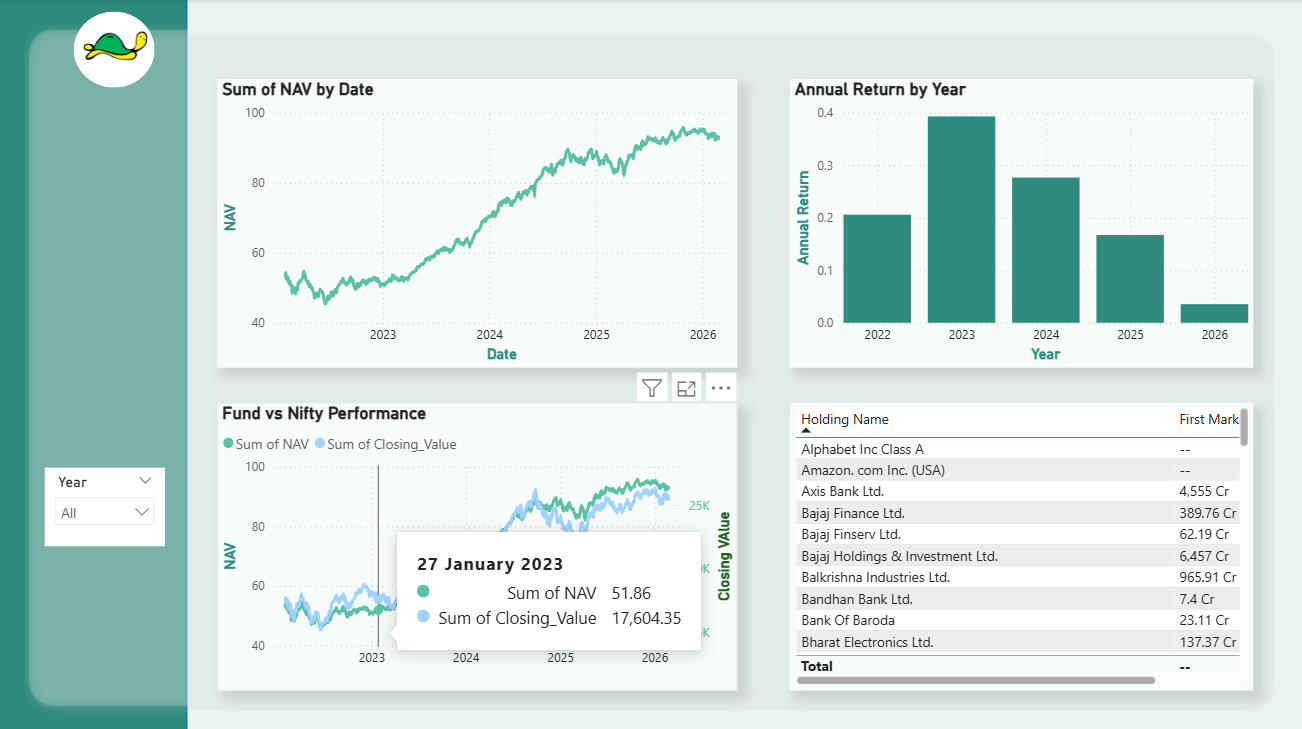

The page's visual inventory and layout, read from the dashboard file:
{"tool":"powerbi","page":{"name":"Performance Analysis","canvas":[1280,720],"ordinal":1},"visuals":[{"type":"shape","box":[0,0,187.1,720.2],"z":0},{"type":"shape","box":[23.2,20.8,1232.6,679.9],"z":1000},{"type":"shape","box":[75.8,12.2,79.5,74.6],"z":2000},{"type":"image","box":[68.5,4.9,96.6,81.9],"z":3000},{"type":"tableEx","fields":{"Values":["Holdings.Holding Name","Min(Holdings.Market Cap Category)"]},"box":[776.5,395,453.7,281.3],"z":4000},{"type":"lineChart","fields":{"Category":["NAV_History.Date"],"Y":["Sum(NAV_History.NAV)"]},"box":[216.4,78.3,508.7,282.5],"z":5000},{"type":"lineChart","title":"Fund vs Nifty Performance","fields":{"Category":["NAV_History.Date"],"Y":["Sum(NAV_History.NAV)"],"Y2":["Sum(Benchmark_Data.Closing_Value)"]},"box":[216.4,395,508.7,281.3],"z":6000},{"type":"columnChart","fields":{"Y":["NAV_History.Annual Return"],"Category":["NAV_History.Year"]},"box":[776.5,78.3,453.7,282.5],"z":7000},{"type":"slicer","fields":{"Values":["NAV_History.Year"]},"box":[47.7,458.6,117.4,77],"z":8000}]}

Visuals, with their boxes in screenshot pixels (x1, y1, x2, y2), scaled from the page's 1280x720 canvas onto the 1302x729 screenshot:
shape: 0:0:190:728
shape: 24:21:1277:709
shape: 77:12:158:88
image: 70:5:168:88
tableEx - Holdings.Holding Name x Min(Holdings.Market Cap Category): 790:400:1251:685
lineChart - NAV_History.Date x Sum(NAV_History.NAV): 220:79:738:365
"Fund vs Nifty Performance" lineChart: 220:400:738:685
columnChart - NAV_History.Annual Return x NAV_History.Year: 790:79:1251:365
slicer - NAV_History.Year: 49:464:168:542
